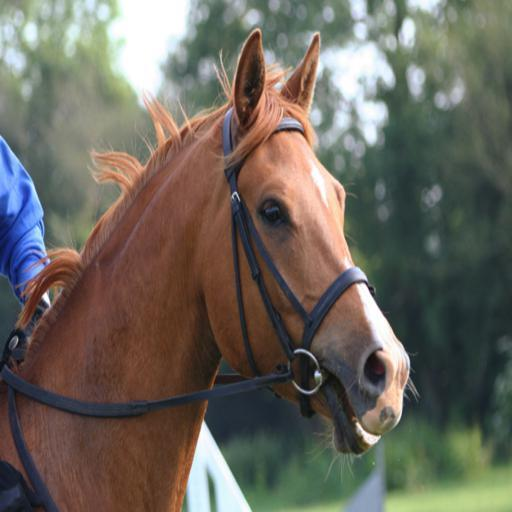Horse: (0, 27, 419, 511)
